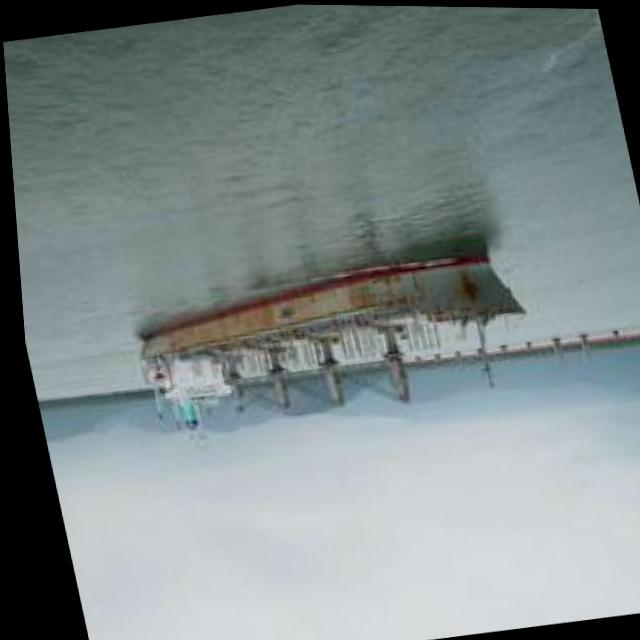ship2: (134, 245, 518, 431)
